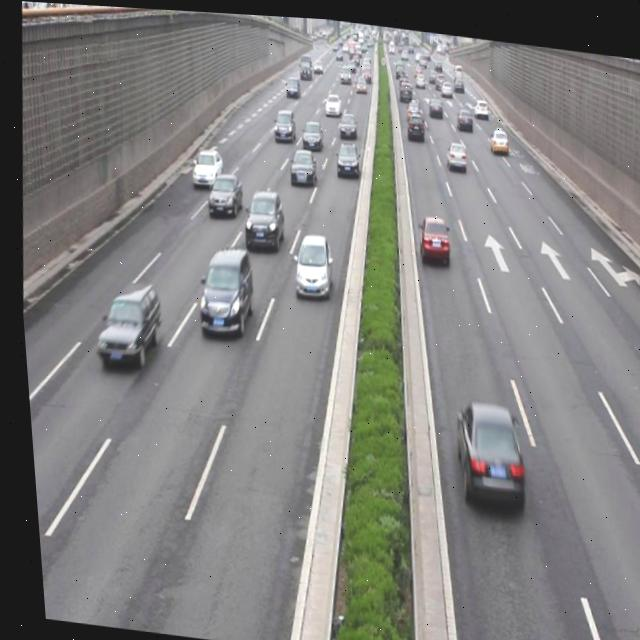car: (442, 392, 523, 504), (84, 272, 161, 367), (189, 238, 253, 335), (287, 226, 330, 297), (238, 185, 283, 250), (413, 207, 448, 260), (202, 168, 240, 216), (186, 144, 222, 186), (285, 142, 316, 184), (331, 133, 359, 173), (297, 114, 322, 150), (440, 133, 466, 167), (269, 104, 294, 138), (486, 118, 506, 149)
